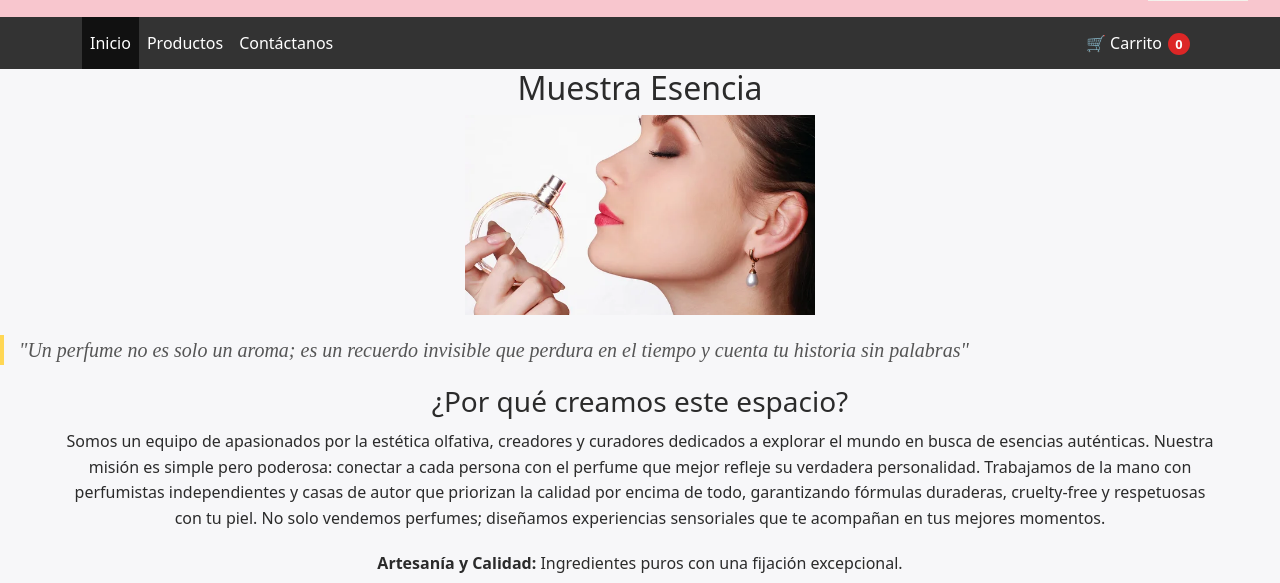
Test case: App (navegación completa) › en Contáctanos, enviar el formulario muestra la confirmación
Click the link "Contáctanos" at [286, 43], box [239,32,333,54]
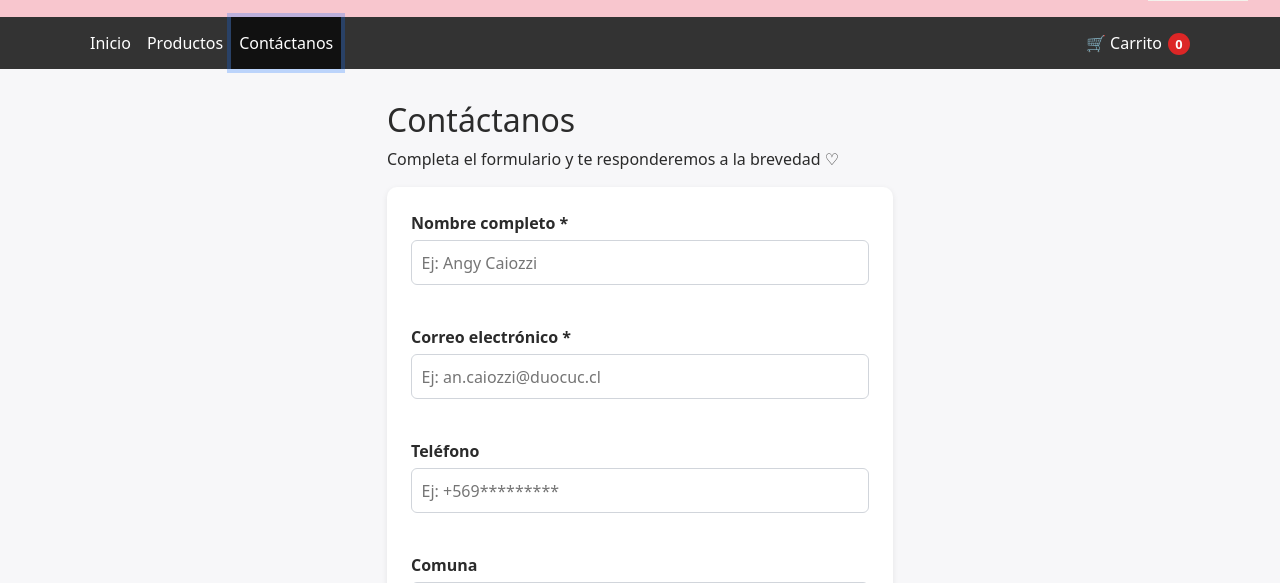
Type "Angy Caiozzi" into the field labelled "Nombre completo *" at [640, 263], box [411,240,869,285]
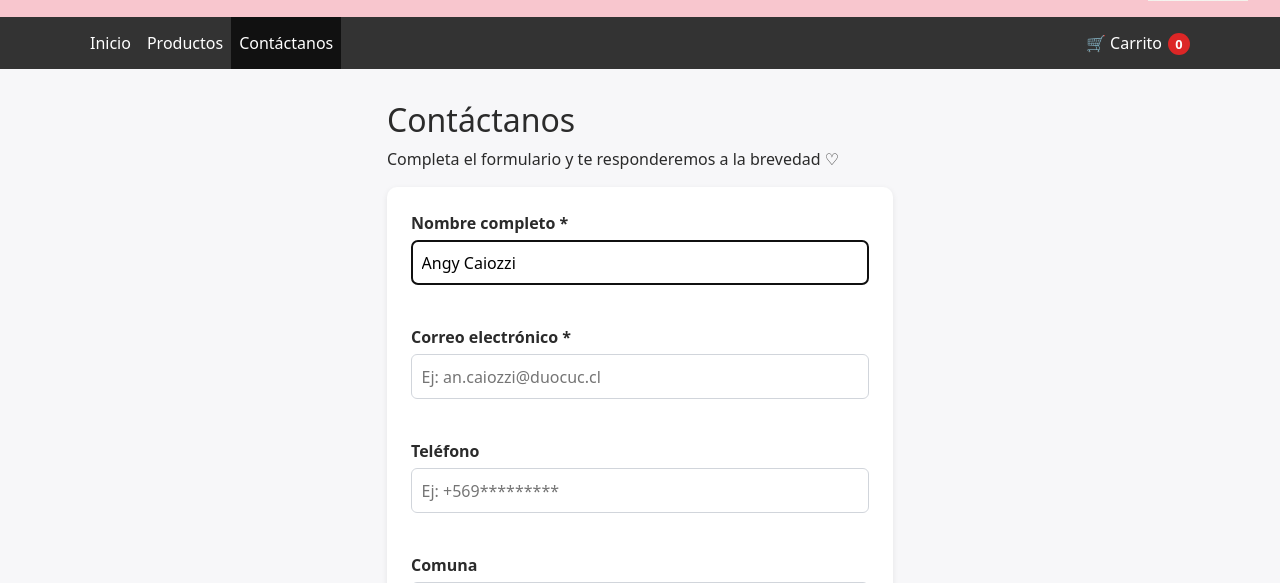
Type "an.caiozzi@duocuc.cl" into the field labelled "Correo electrónico *" at [640, 377], box [411,354,869,399]
(page scrolled)
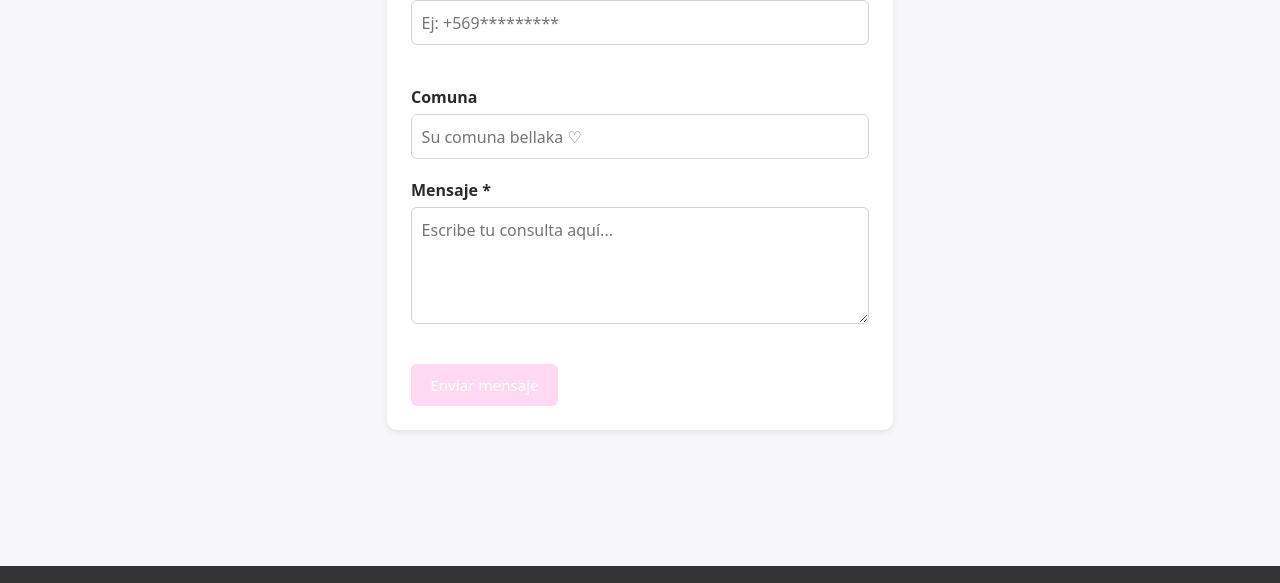
Type "Quiero saber si tienen stock" into the text box labelled "Mensaje *" at [640, 266], box [411,207,869,324]
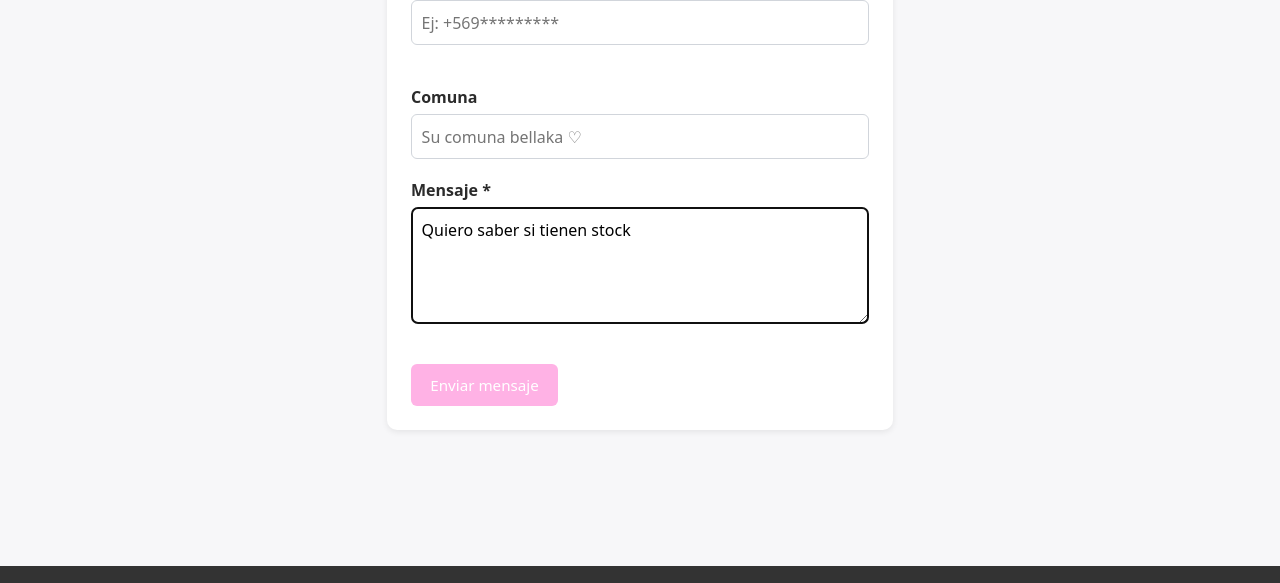
Click the button "Enviar mensaje" at [484, 385], box [411,364,558,406]
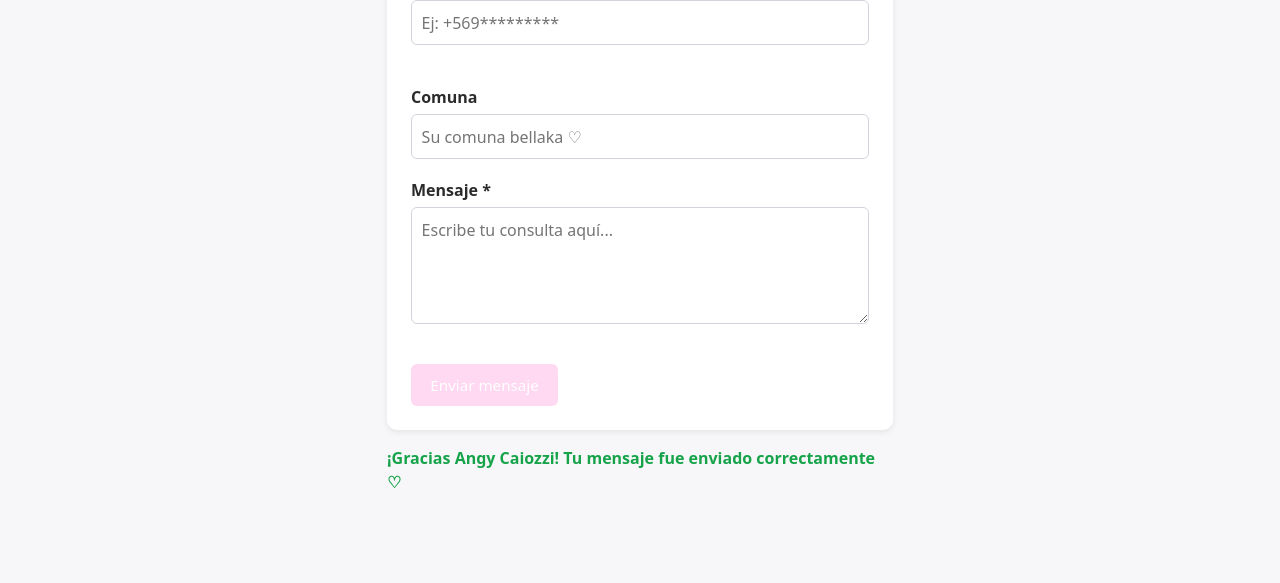
Now the message reads "¡Gracias Angy Caiozzi! Tu mensaje fue enviado correctamente ♡", box [387,447,875,493]
